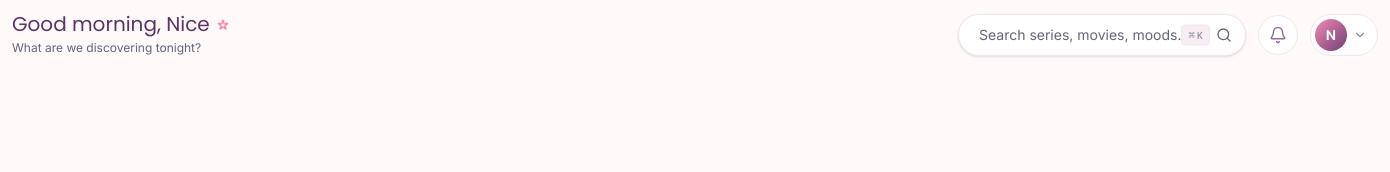
Scenario: DashboardHeader notifications bell (G3-01) › shows no unread dot and the caught-up message when there are no notifications
Click the button named "Notifications". click: {"x": 1278, "y": 34}
box: [1258,14,1298,54]
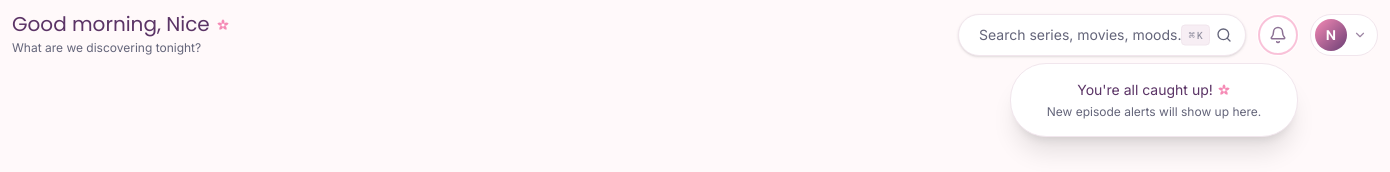
Check: the text "You're all caught up!" is shown, box [1077,80,1231,98]
